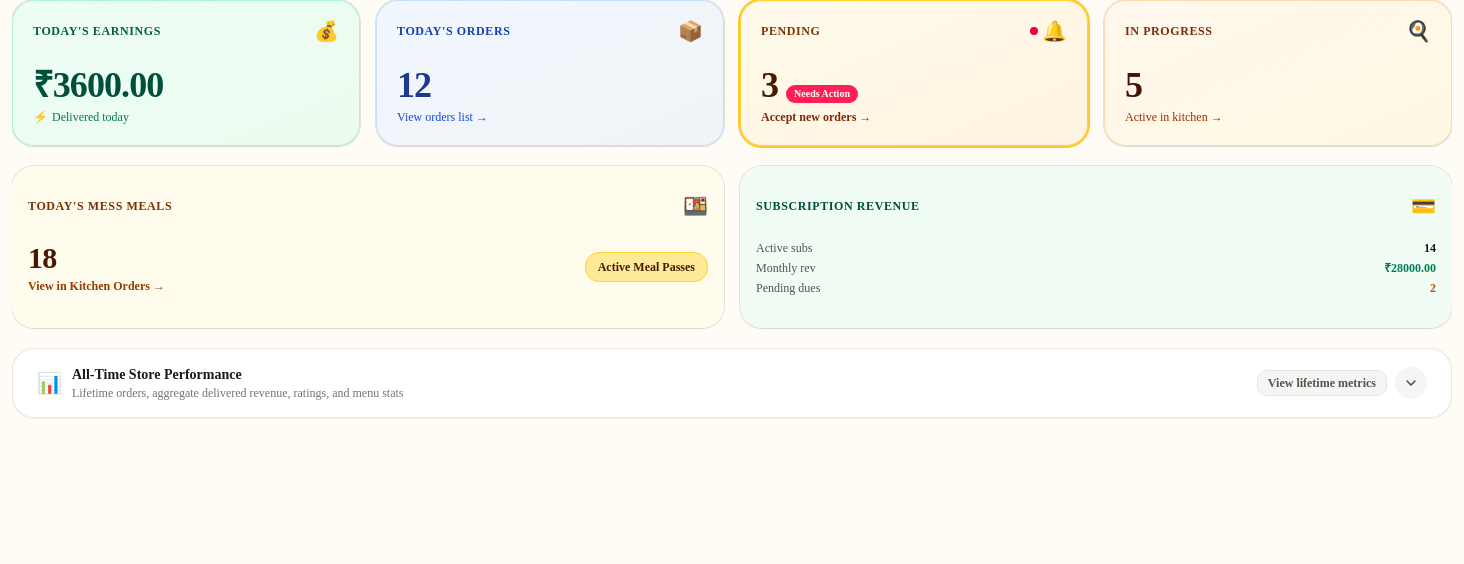
Scenario: Restaurant Dashboard Metric Cards & Analytics › renders 4 operational tiles and toggles all-time store performance collapsible
Expected: the text "Today's Earnings" is shown, [33, 23, 161, 39]
Expected: the text "₹3600.00" is shown, [33, 65, 163, 105]
Click the button "All-Time Store Performance".
click(157, 374)  # box [13, 349, 1451, 417]
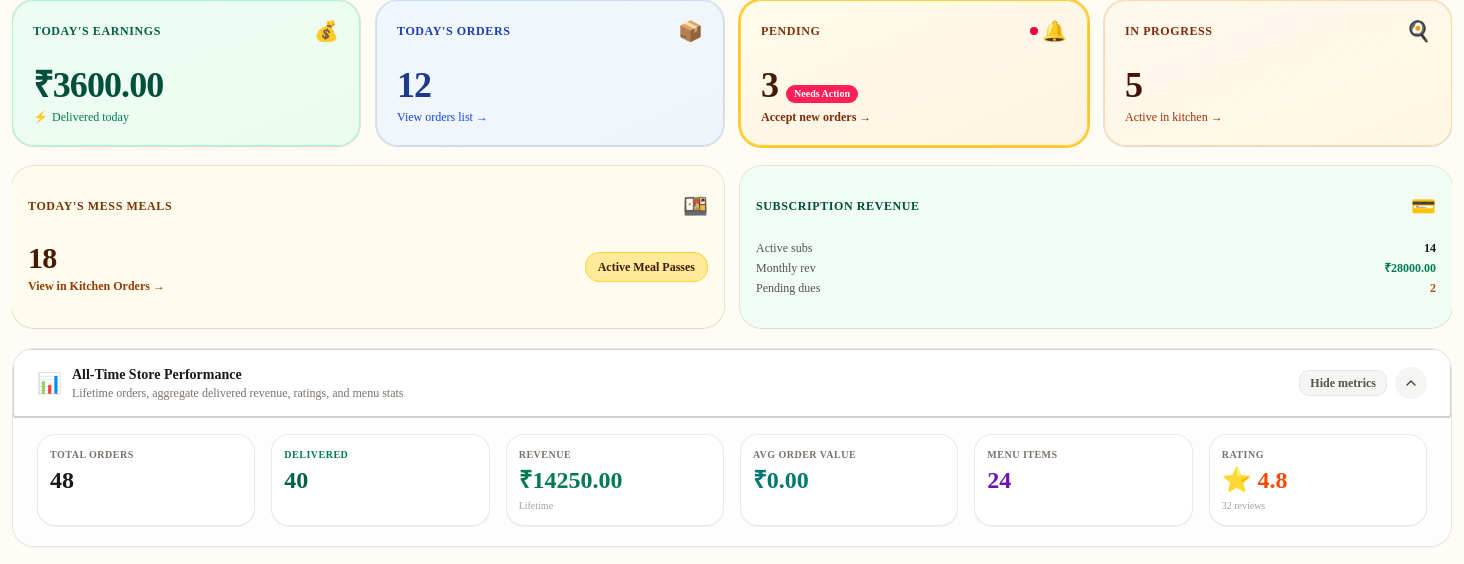
Expected: the text "Total Orders" is shown, [50, 449, 134, 460]
Expected: the text "48" is shown, [50, 467, 74, 493]
Expected: the text "₹14250.00" is shown, [519, 467, 622, 493]
